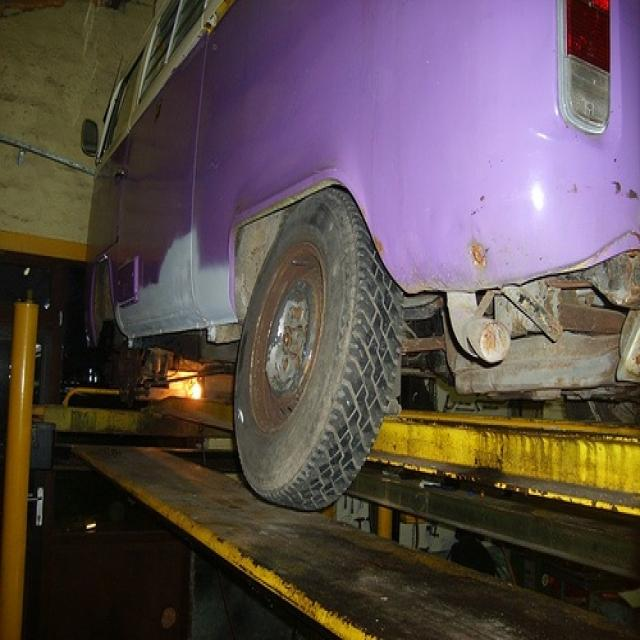car: (82, 2, 639, 512)
